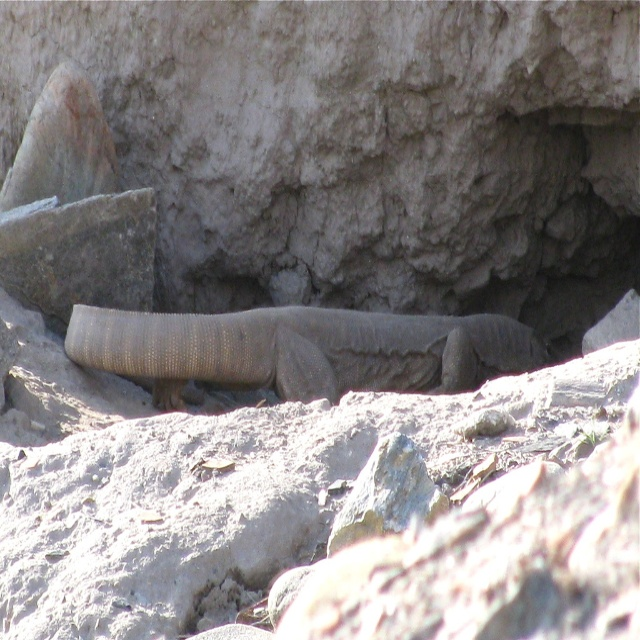Lizard: (78, 290, 547, 426)
